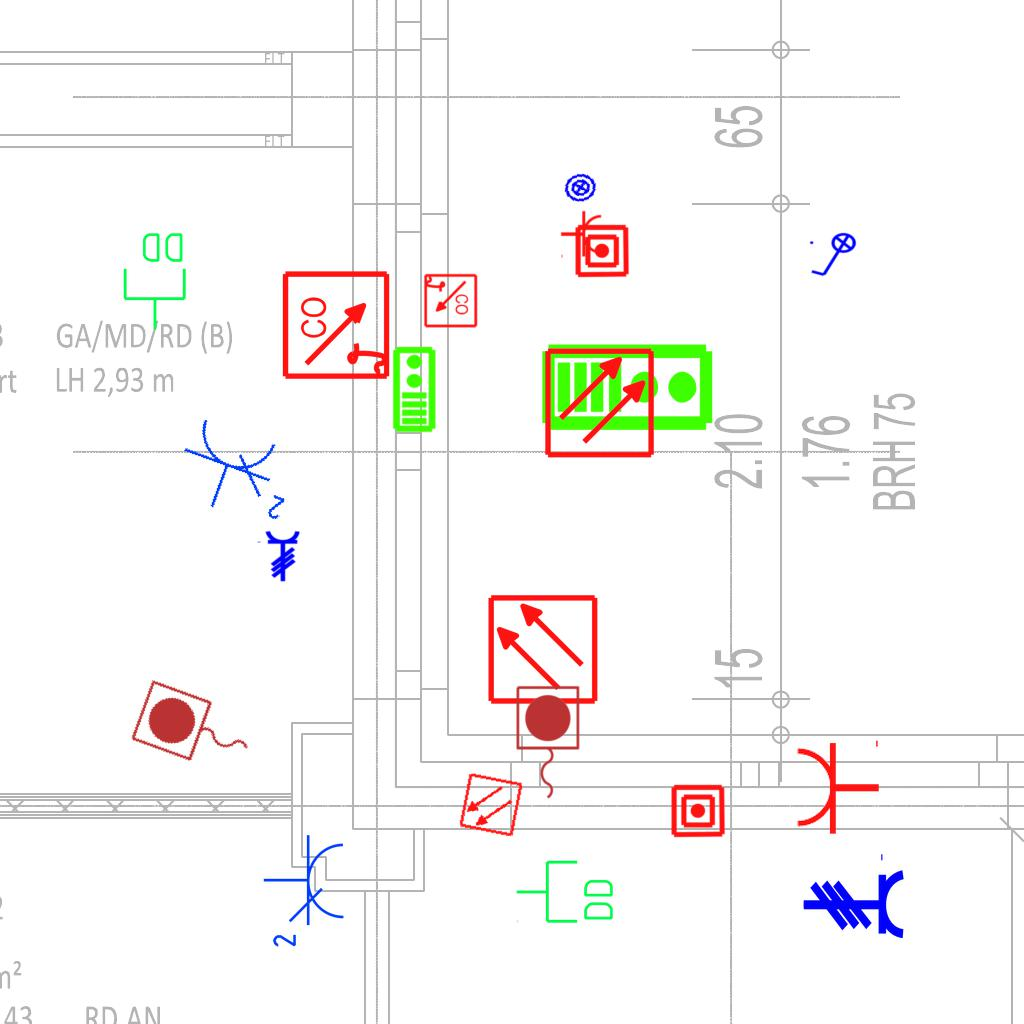Ausschalter_beleuchtet: (807, 232, 863, 280)
CEE_Drehstrom_Steckdose_16_32_A: (802, 851, 906, 941), (256, 530, 301, 582)
Datenanschluss_zweifach: (121, 229, 190, 332), (514, 858, 617, 927)
Gegensprechanlage_mit_Video: (540, 338, 716, 433), (390, 345, 437, 433)
NAM-Nichtautomatischer_Melder: (670, 783, 726, 839), (574, 223, 630, 279)
RMO_Rauchmelder_optischer: (486, 593, 599, 706), (543, 346, 656, 459), (458, 772, 524, 838)
ROA_Rauchmelder_optisch_mit_Signalgeber_(Sockelsirene): (281, 268, 394, 381), (422, 273, 478, 329)
Schukosteckdose_einfach: (794, 736, 881, 836), (560, 210, 603, 260)
Schukosteckdose_mehrfach: (167, 409, 311, 534), (262, 833, 350, 954)
Taster_beleuchtet: (561, 168, 600, 207)
Zugtaster: (125, 675, 265, 785), (511, 682, 583, 804)
